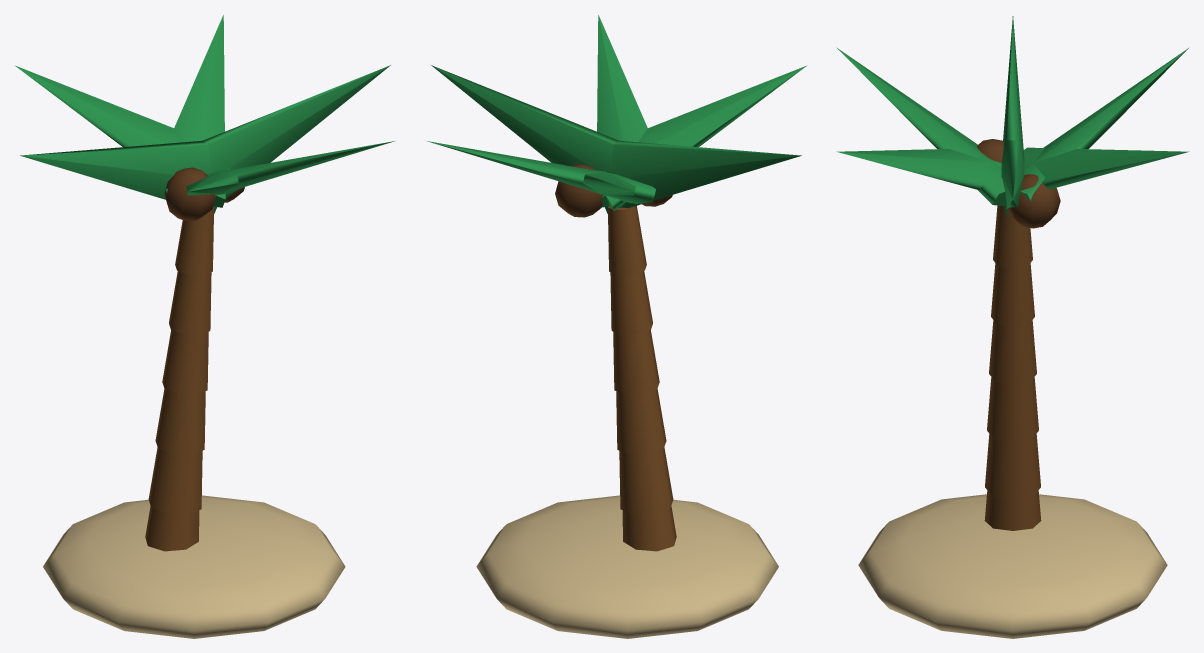
The model's file is palm.glb.
3 renders of one model, left to right at view 1: azimuth 30°, elevation 25°; view 2: azimuth 150°, elevation 25°; view 3: azimuth 270°, elevation 25°, orthographic. The views are drawn at different scales.
Parts seen in each view (by area): view 1: palm; view 2: palm; view 3: palm.
Boxes of the visible parts, box(x1,y1,x2,y2) form: palm: box(15, 15, 394, 638); palm: box(427, 15, 806, 638); palm: box(836, 16, 1189, 638).
Size of the model in its own units: 0.8745 by 1.11 by 0.7045.
